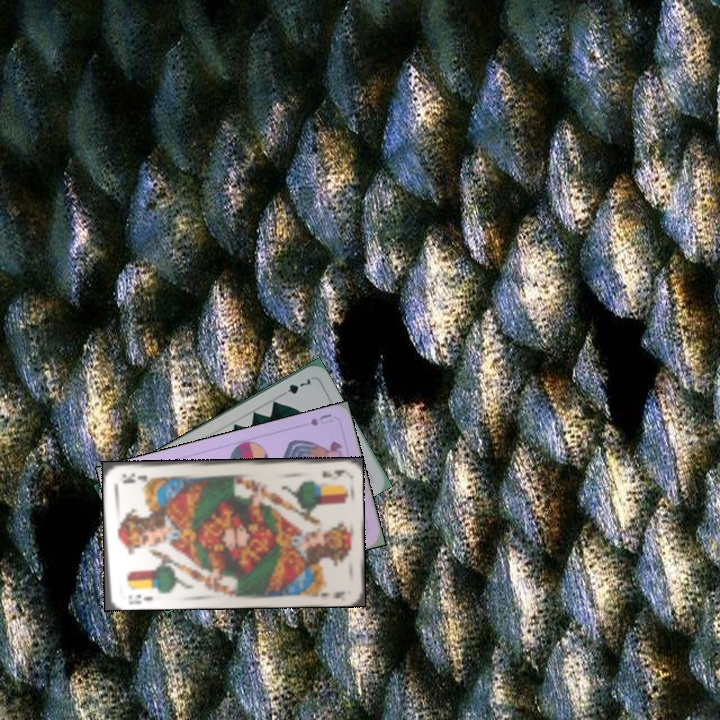EK: (318, 465, 346, 480), (124, 591, 155, 604)
G7: (276, 375, 315, 399)
SU: (306, 409, 335, 428)
